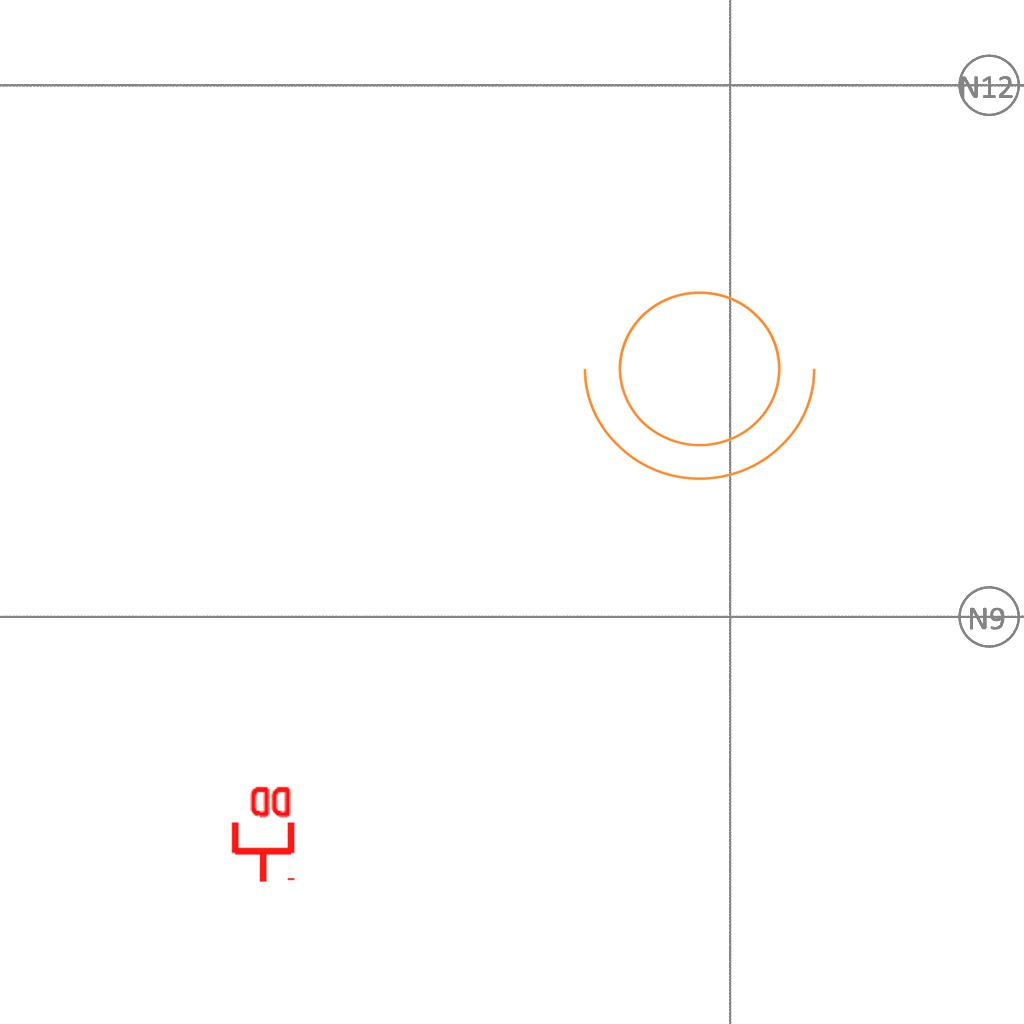Datenanschluss_zweifach: (227, 782, 296, 885)
Scheinwerfer_fuer_Alarmbeleuchtung: (574, 266, 838, 491)
